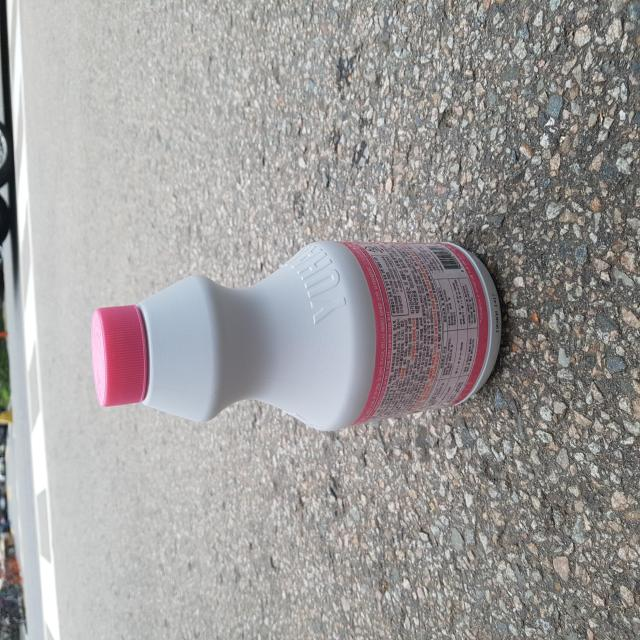bottle: (90, 229, 507, 439)
